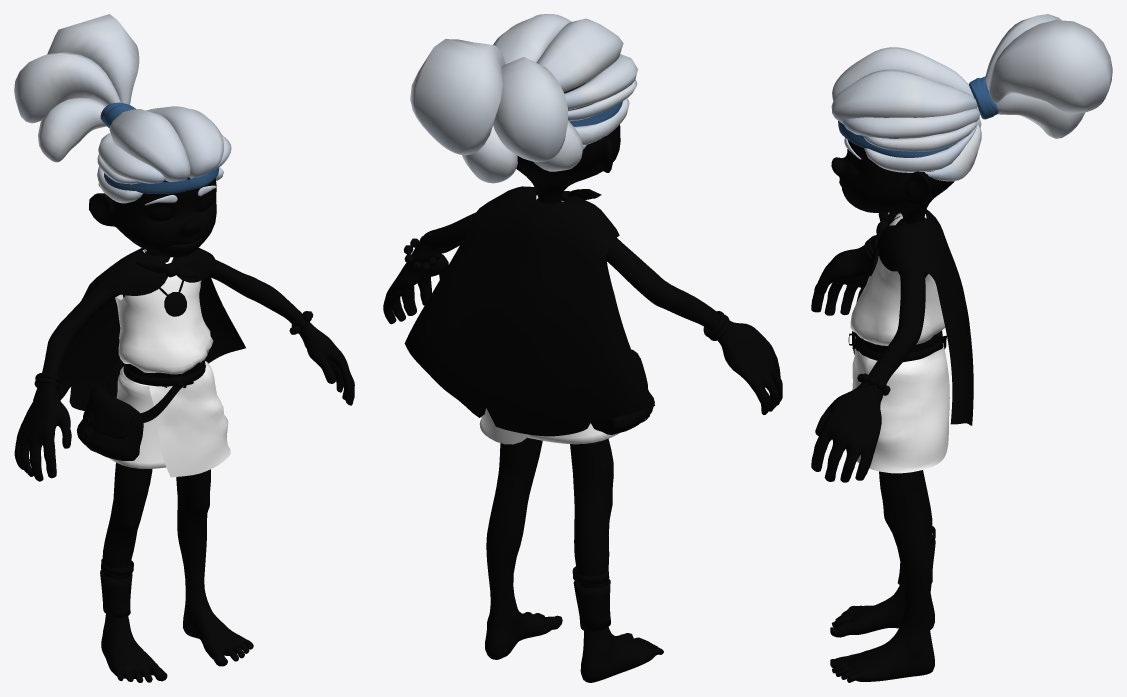
File: SM_GiroV2.fbx
3 views of the same model, side by side, from view 1: azimuth 30°, elevation 25°; view 2: azimuth 150°, elevation 25°; view 3: azimuth 270°, elevation 25° (orthographic). The views are drawn at different scales.
Visible parts, largest first — view 1: Object003 (×4); view 2: Object003 (×4); view 3: Object003 (×4).
Boxes of the visible parts, box(x1,y1,x2,y2) form: Object003 (×4): box(14, 14, 354, 682); Object003 (×4): box(383, 14, 782, 682); Object003 (×4): box(811, 14, 1112, 682).
Size of the model in its own units: 105 by 175 by 76.41.
